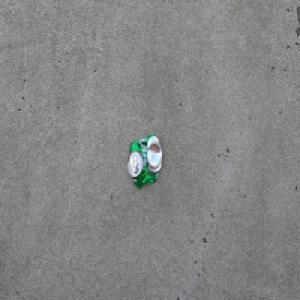SodaCan: (127, 132, 163, 189)
